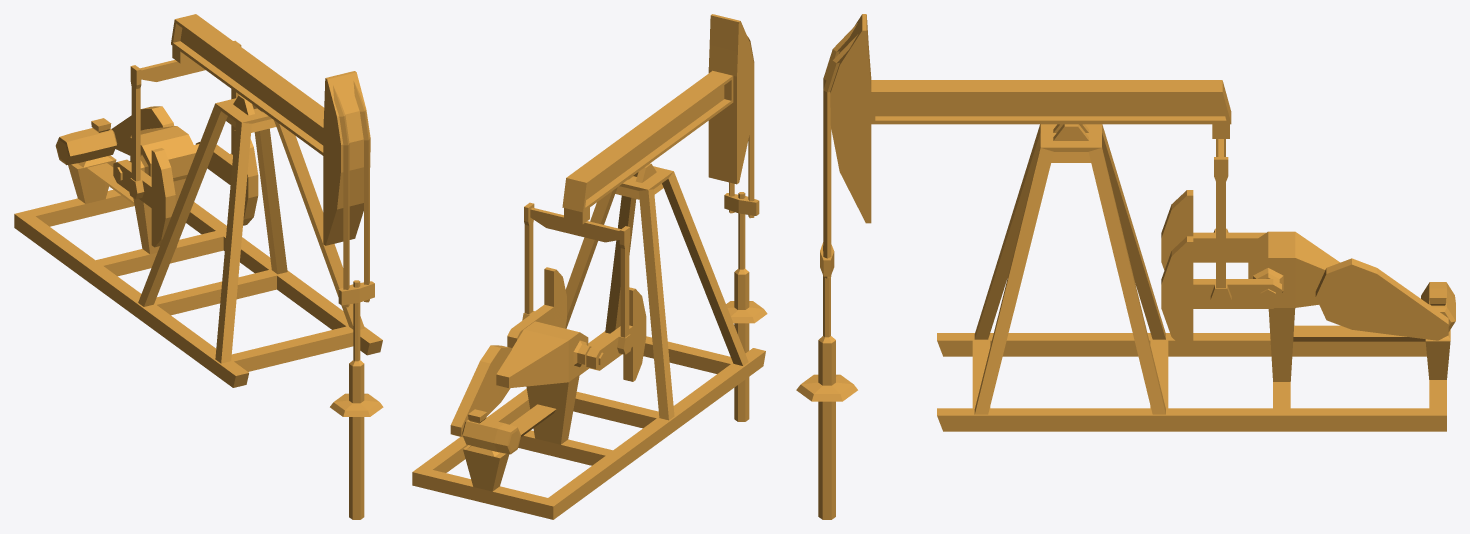
The model's file is pumpjack.glb.
3 views of the same model, side by side, from view 1: azimuth 30°, elevation 25°; view 2: azimuth 150°, elevation 25°; view 3: azimuth 270°, elevation 25° (orthographic). The views are drawn at different scales.
Parts seen in each view (by area): view 1: pumpjack; view 2: pumpjack; view 3: pumpjack.
Part boxes in pixels (<box>): pumpjack: <box>14,14,383,519</box>; pumpjack: <box>412,14,767,519</box>; pumpjack: <box>796,14,1455,519</box>.
Size of the model in its own units: 2.2 by 6.14 by 7.42.
